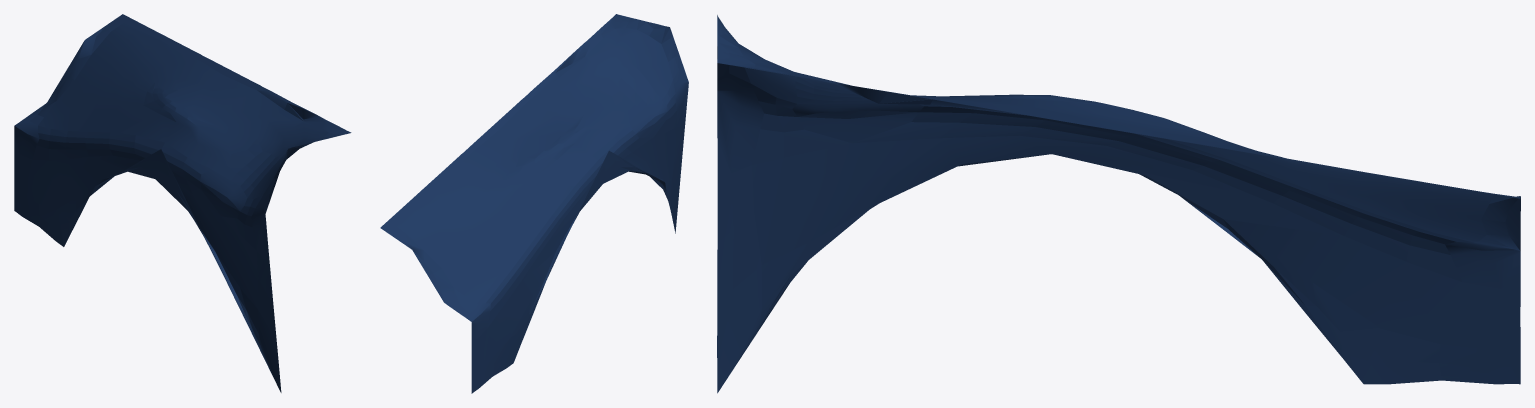
The model's file is GEO_Fender_Front_Right.glb.
The picture shows the model from 3 angles, left to right: view 1: azimuth 30°, elevation 25°; view 2: azimuth 150°, elevation 25°; view 3: azimuth 270°, elevation 25°; orthographic projection. The views are drawn at different scales.
Visible parts, largest first — view 1: GEO_Fender_Front_Right; view 2: GEO_Fender_Front_Right; view 3: GEO_Fender_Front_Right.
Part boxes in pixels (box(x1,y1,x2,y2)): GEO_Fender_Front_Right: box(14, 14, 351, 392); GEO_Fender_Front_Right: box(380, 14, 688, 393); GEO_Fender_Front_Right: box(717, 15, 1520, 393).
Size of the model in its own units: 0.3649 by 0.7298 by 1.38.
